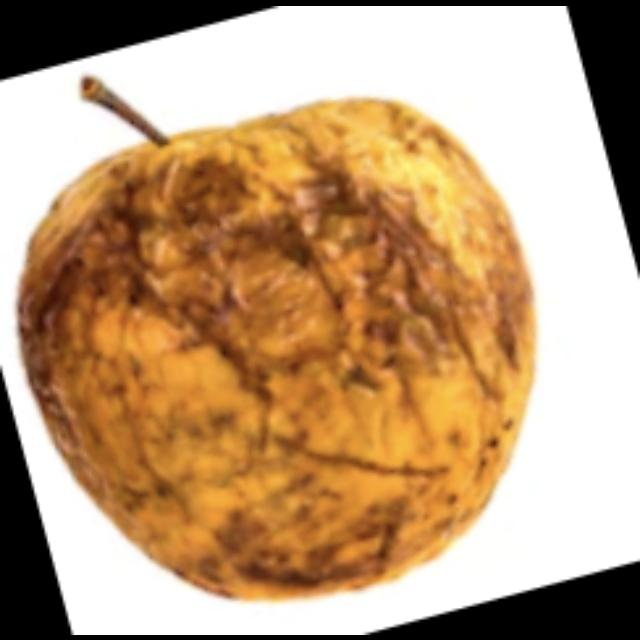Apel Tidak Segar: (9, 74, 548, 612)
